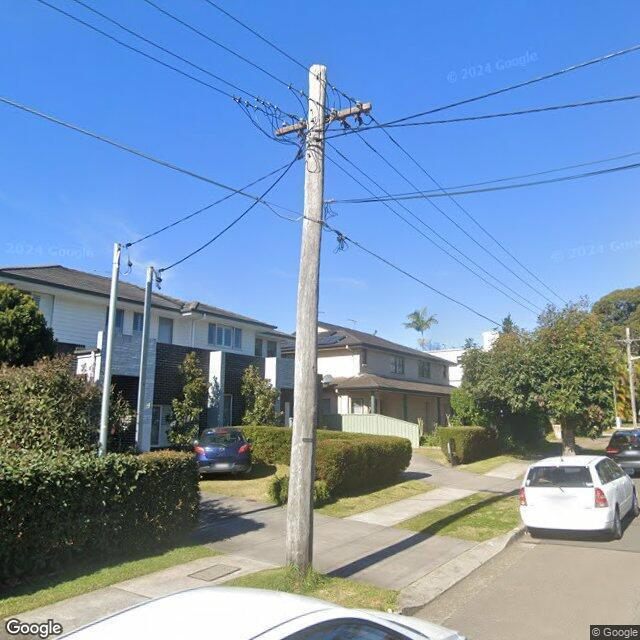crossarm: (274, 99, 375, 139), (614, 338, 640, 342)
steel-pole: (98, 241, 122, 453), (134, 266, 155, 452)
timber-pole: (284, 64, 328, 579), (625, 328, 637, 428)
